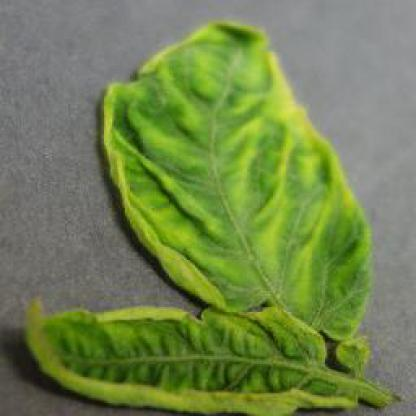bad leaf: (33, 307, 326, 400), (139, 209, 290, 340), (247, 22, 316, 201), (109, 68, 165, 212)
